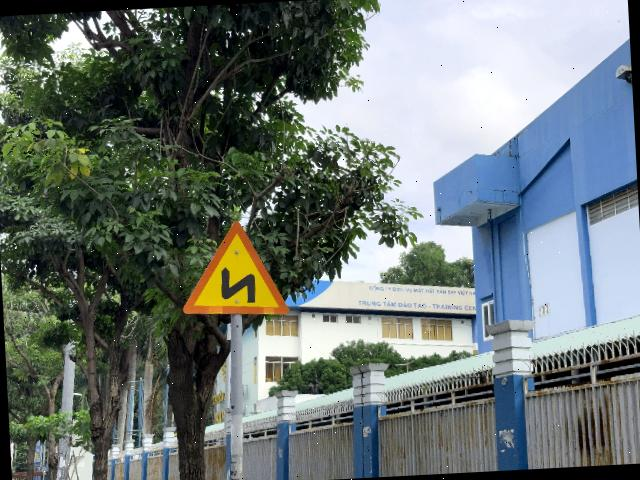nhieu-cho-ngoat-nguy-hiem-lien-tiep: (179, 218, 290, 320)
